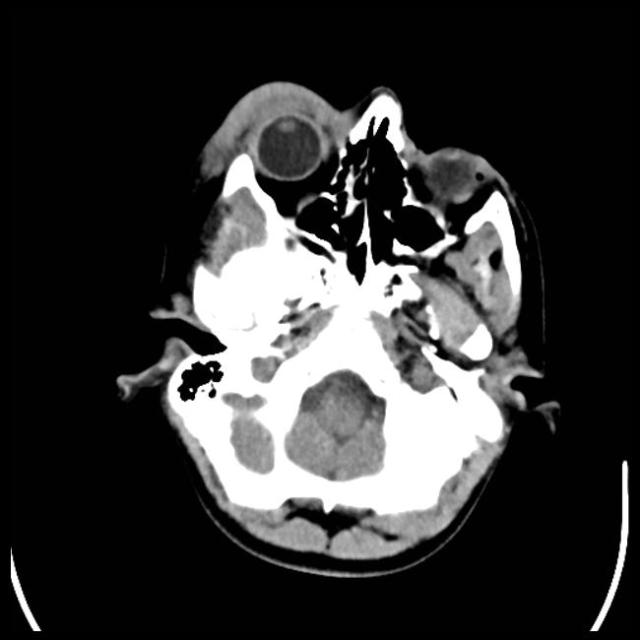lesion: (115, 77, 561, 575)
